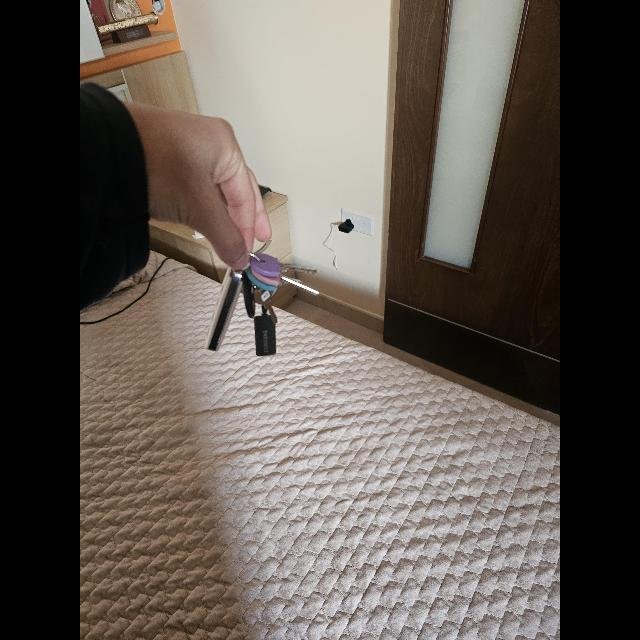Keys: (205, 252, 319, 352)
